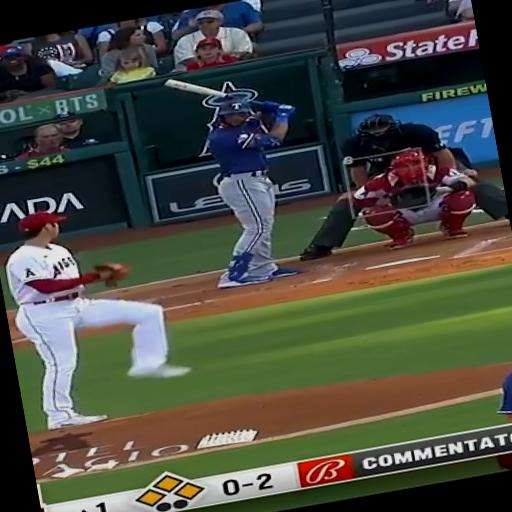bat: (164, 79, 232, 97), (164, 79, 229, 97)
